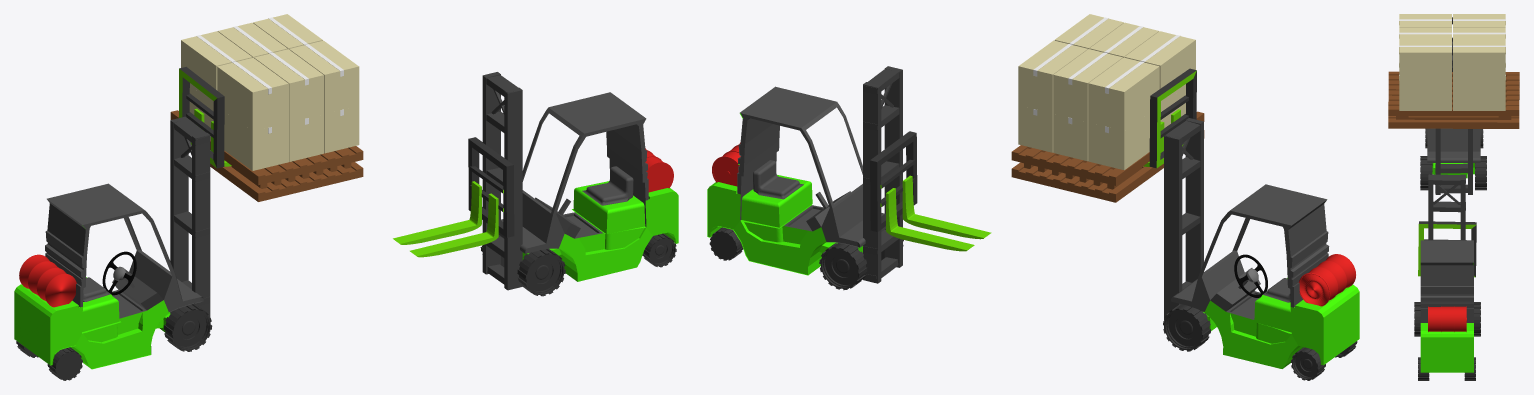
Rendered from Kendaraan.fbx.
3 renders of one model, left to right at view 1: azimuth 30°, elevation 25°; view 2: azimuth 150°, elevation 25°; view 3: azimuth 270°, elevation 25°, orthographic. The views are drawn at different scales.
Visible parts, largest first — view 1: Cube.4620, Cube.231, Cube.225, Cube.228, Cube.235, Cube.230, Cube.4621, Cylinder.104, Cylinder.106, Cylinder.108, Circle.001; view 2: Cube.4620, Cube.231, Cube.225, Cube.228, Cube.235, Cube.230, Cube.4621, Cylinder.105, Cylinder.107, Cylinder.108, Circle.001; view 3: Cube.231, Cube.225, Cube.4620, Cube.230, Cube.228, Cylinder.108, Cube.235, Cylinder.104, Cylinder.105, Cylinder.106, Cylinder.107.
Boxes of the visible parts, x1,y1,x2,y2 form: Cube.4620: (14,116,212,380); Cube.231: (181,14,359,170); Cube.225: (498,92,678,281); Cube.228: (482,72,522,290); Cube.235: (393,137,514,257); Cube.230: (170,110,363,201); Cube.4621: (178,66,231,168); Cylinder.104: (517,249,565,296); Cylinder.106: (642,233,676,267); Cylinder.108: (645,148,673,192); Circle.001: (102,251,136,295); Cube.4620: (1163,118,1359,380); Cube.231: (1018,14,1195,170); Cube.225: (707,86,885,275); Cube.228: (863,66,902,283); Cube.235: (870,131,991,251); Cube.230: (1011,111,1204,202); Cube.4621: (1143,68,1196,168); Cylinder.105: (819,243,867,290); Cylinder.107: (709,227,743,260); Cylinder.108: (712,142,740,186); Circle.001: (1234,254,1267,297); Cube.231: (1399,14,1505,110); Cube.225: (1420,240,1473,372); Cube.4620: (1420,41,1486,194); Cube.230: (1388,71,1519,128); Cube.228: (1428,174,1465,240); Cylinder.108: (1428,306,1466,331); Cube.235: (1418,221,1476,277); Cylinder.104: (1414,302,1420,336); Cylinder.105: (1474,302,1480,336); Cylinder.106: (1418,357,1429,380); Cylinder.107: (1464,357,1475,380).
Bounding box in the file's own units: 994 × 436 × 244.
